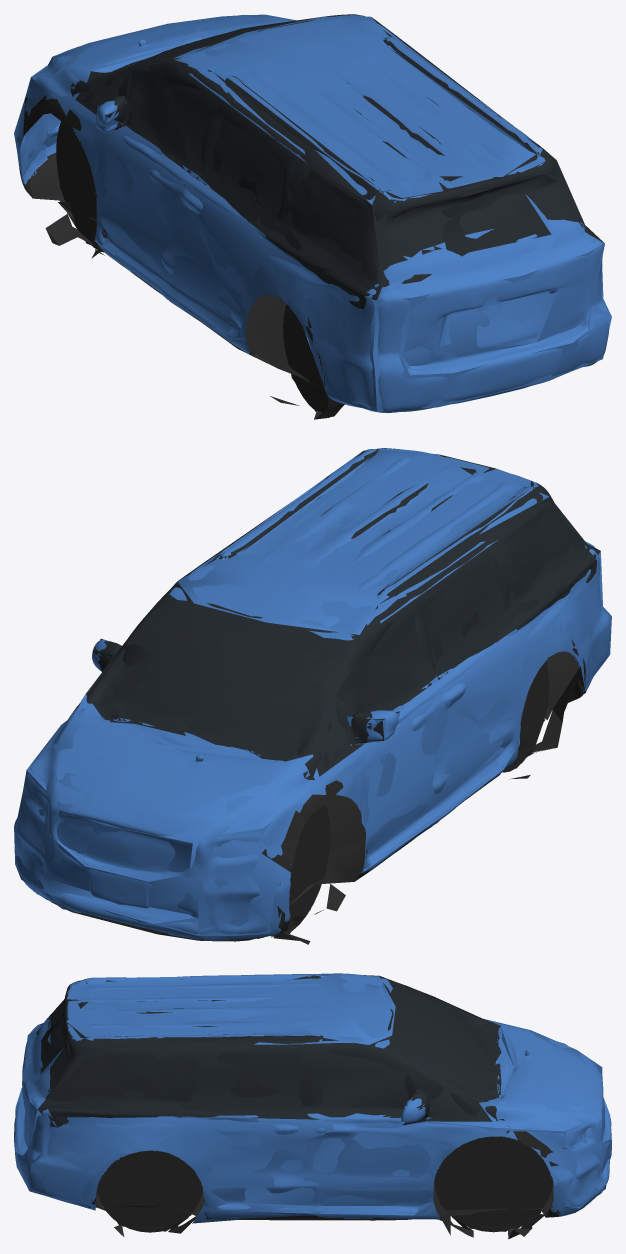
The model's file is kia-sedona.glb.
3 renders of one model, top to bottom at view 1: azimuth 30°, elevation 25°; view 2: azimuth 150°, elevation 25°; view 3: azimuth 270°, elevation 25°, orthographic. The views are drawn at different scales.
Parts seen in each view (by area): view 1: body, far; view 2: body, far; view 3: far, body.
Part boxes in pixels (left/top/right/bottom): body: left=15, top=14, right=608, bottom=419; far: left=14, top=14, right=611, bottom=411; body: left=14, top=448, right=610, bottom=944; far: left=15, top=450, right=611, bottom=937; far: left=15, top=974, right=610, bottom=1235; body: left=14, top=973, right=611, bottom=1239.
Bounding box in the file's own units: 2.34 × 1.85 × 5.16.
